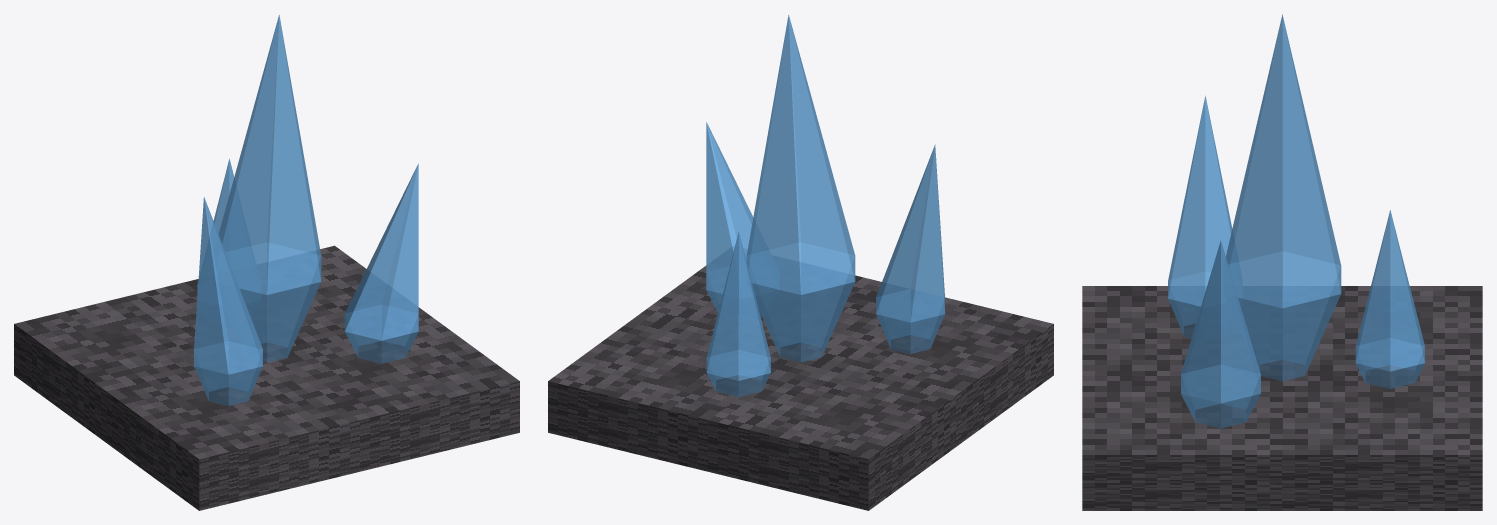
File: crystal.obj
3 views of the same model, side by side, from view 1: azimuth 30°, elevation 25°; view 2: azimuth 150°, elevation 25°; view 3: azimuth 270°, elevation 25° (orthographic). The views are drawn at different scales.
Parts seen in each view (by area): view 1: Rock, Crystals; view 2: Rock, Crystals; view 3: Rock, Crystals.
Boxes of the visible parts, box(x1,y1,x2,y2) form: Rock: box(14, 245, 519, 510); Crystals: box(194, 15, 418, 406); Rock: box(548, 265, 1053, 510); Crystals: box(706, 15, 944, 396); Rock: box(1082, 286, 1482, 510); Crystals: box(1168, 14, 1424, 428).
Bounding box in the file's own units: 1.3 × 1.5 × 1.3.
Materials: 2 (1 with a texture image).
